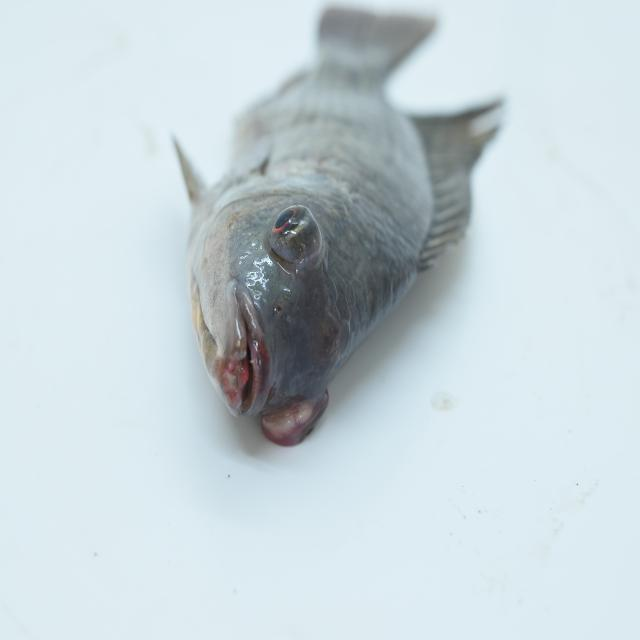Columnaris Disease: (128, 23, 540, 457)
